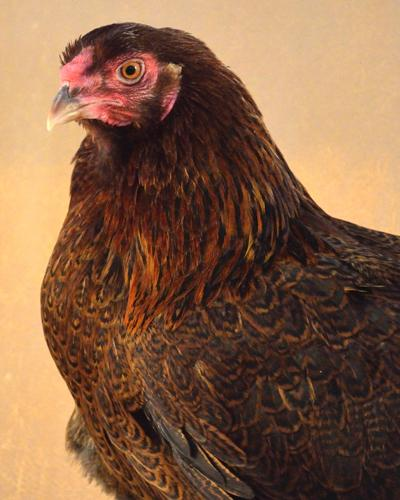AbNormal: (58, 17, 120, 77)
